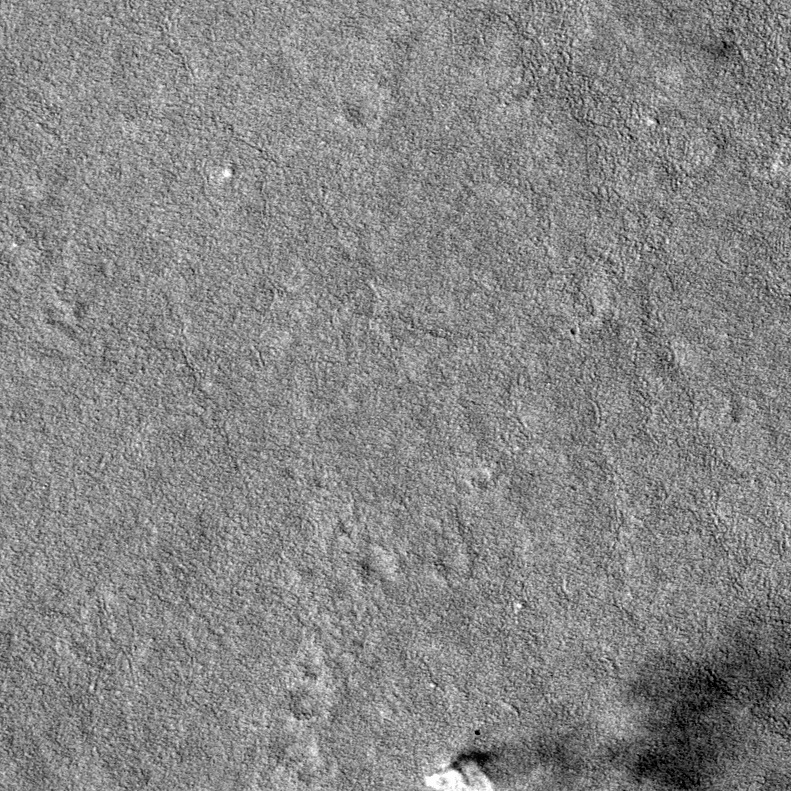dust_devil: (423, 586, 791, 791)
